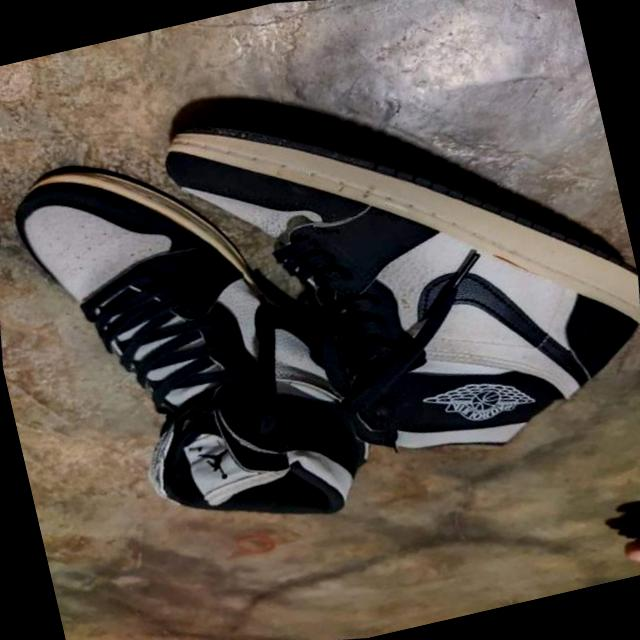nike_fake_jordan: (107, 23, 640, 542), (0, 91, 454, 592)
